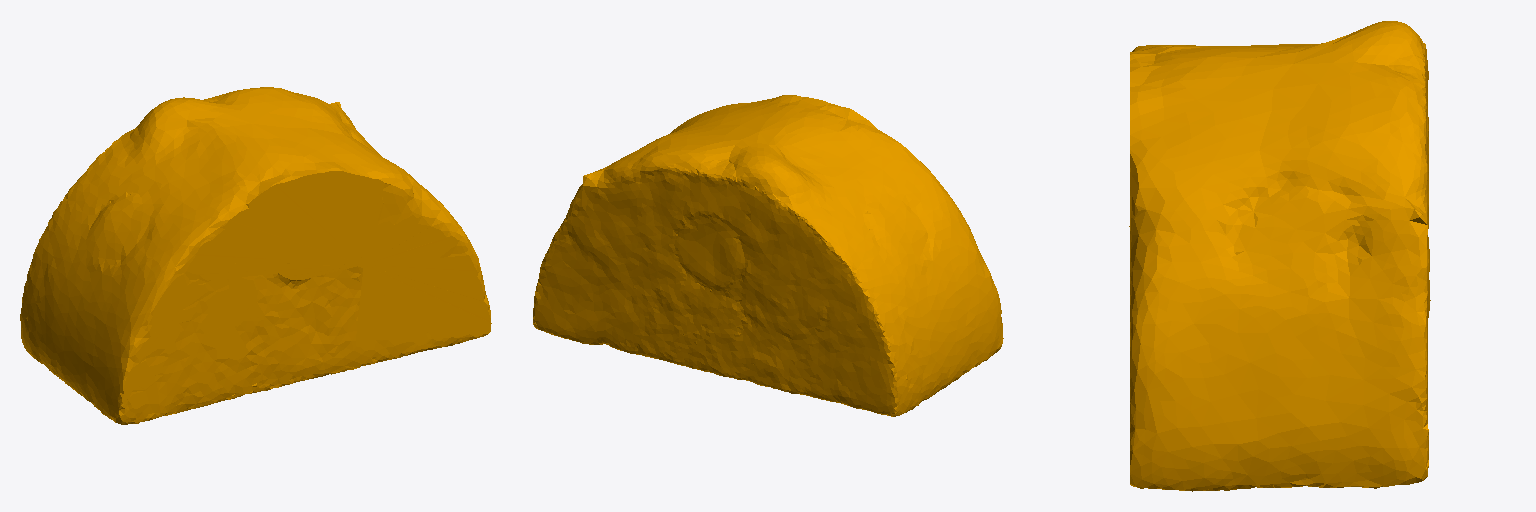
URDF robot description (half_cylinder_D10_W5_scanned):
<?xml version='1.0' encoding='utf-8'?>
<robot name="half_cylinder_D10_W5_scanned">
  <link name="half_cylinder_D10_W5_scanned">
    <visual>
      <origin xyz="0 0 0" rpy="0 0 0" />
      <geometry>
        <mesh filename="half_cylinder_D10_W5_scanned.obj" scale="1 1 1" />
      </geometry>
    </visual>
    <collision>
      <origin xyz="0 0 0" rpy="0 0 0" />
      <geometry>
        <mesh filename="half_cylinder_D10_W5_scanned_collision/decomp_0.obj" scale="1 1 1" />
      </geometry>
    </collision>
    <collision>
      <origin xyz="0 0 0" rpy="0 0 0" />
      <geometry>
        <mesh filename="half_cylinder_D10_W5_scanned_collision/decomp_1.obj" scale="1 1 1" />
      </geometry>
    </collision>
    <inertial>
      <origin xyz="9.25421e-05 0.00022809 -0.00223236" rpy="0 0 0" />
      <mass value="0.0979069" />
      <inertia ixx="4.07495e-05" ixy="-4.20517e-07" ixz="-4.04946e-07" iyy="8.29153e-05" iyz="-8.90937e-07" izz="8.20693e-05" />
    </inertial>
  </link>
</robot>

--- What the picture shows (computed from the rendered views, not written in the file) ---
3 views of the same robot in one strip: view 1: azimuth 30°, elevation 25°; view 2: azimuth 150°, elevation 25°; view 3: azimuth 270°, elevation 25° (orthographic).
Robot: half_cylinder_D10_W5_scanned — 1 links, 0 joints (none); root link half_cylinder_D10_W5_scanned; default pose: all joints at 0.
Visible links, largest first — view 1: half_cylinder_D10_W5_scanned; view 2: half_cylinder_D10_W5_scanned; view 3: half_cylinder_D10_W5_scanned.
Boxes of the visible links, x1,y1,x2,y2 form: half_cylinder_D10_W5_scanned: (20, 87, 491, 424); half_cylinder_D10_W5_scanned: (533, 95, 1003, 416); half_cylinder_D10_W5_scanned: (1129, 21, 1430, 491).
Bounding box of the posed robot: 0.1 × 0.049 × 0.0569 m (x, y, z).
1 mesh visuals loaded from 1 distinct referenced files (1 OBJ).
